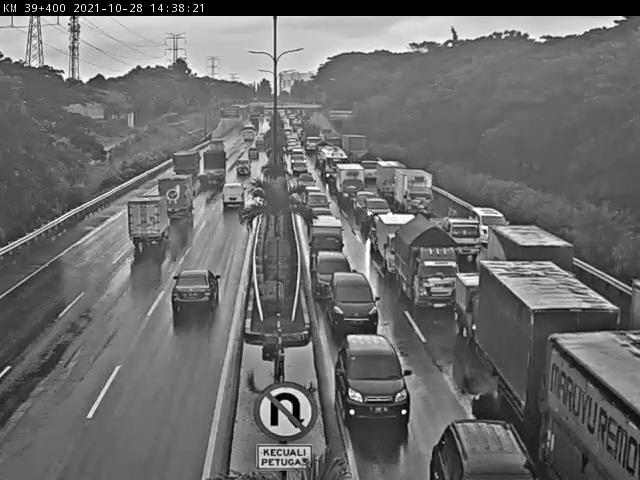big truck: (477, 257, 602, 415), (551, 332, 640, 480), (486, 225, 576, 309), (167, 147, 203, 180)
car: (422, 410, 534, 480), (336, 334, 414, 426), (165, 258, 236, 322), (328, 272, 379, 331), (313, 249, 357, 305), (472, 208, 509, 248), (216, 185, 249, 223), (362, 199, 389, 231), (233, 158, 258, 184), (243, 146, 263, 160)
small truck: (396, 220, 467, 310), (373, 206, 428, 275), (456, 271, 503, 351), (120, 187, 171, 251), (154, 176, 194, 228), (396, 170, 439, 214), (440, 210, 479, 258), (377, 159, 410, 211), (445, 215, 482, 257), (335, 164, 368, 205), (201, 144, 230, 189)
